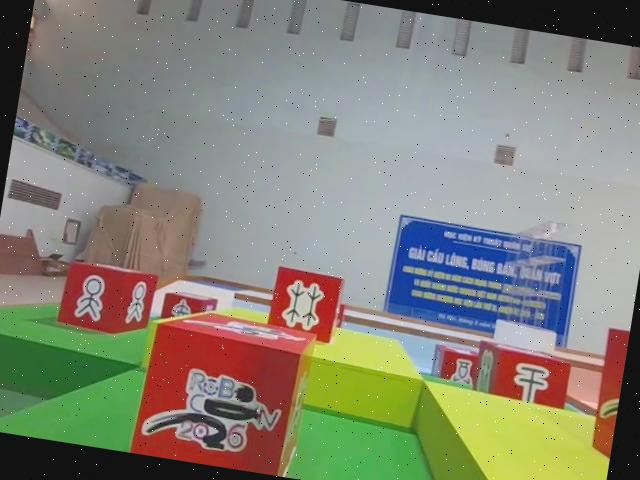R1: (124, 299, 320, 479), (581, 323, 630, 476)
R2 Fake: (468, 337, 577, 421), (156, 287, 220, 331)
R2 Real: (58, 254, 157, 349), (262, 262, 345, 348), (425, 341, 489, 391)
